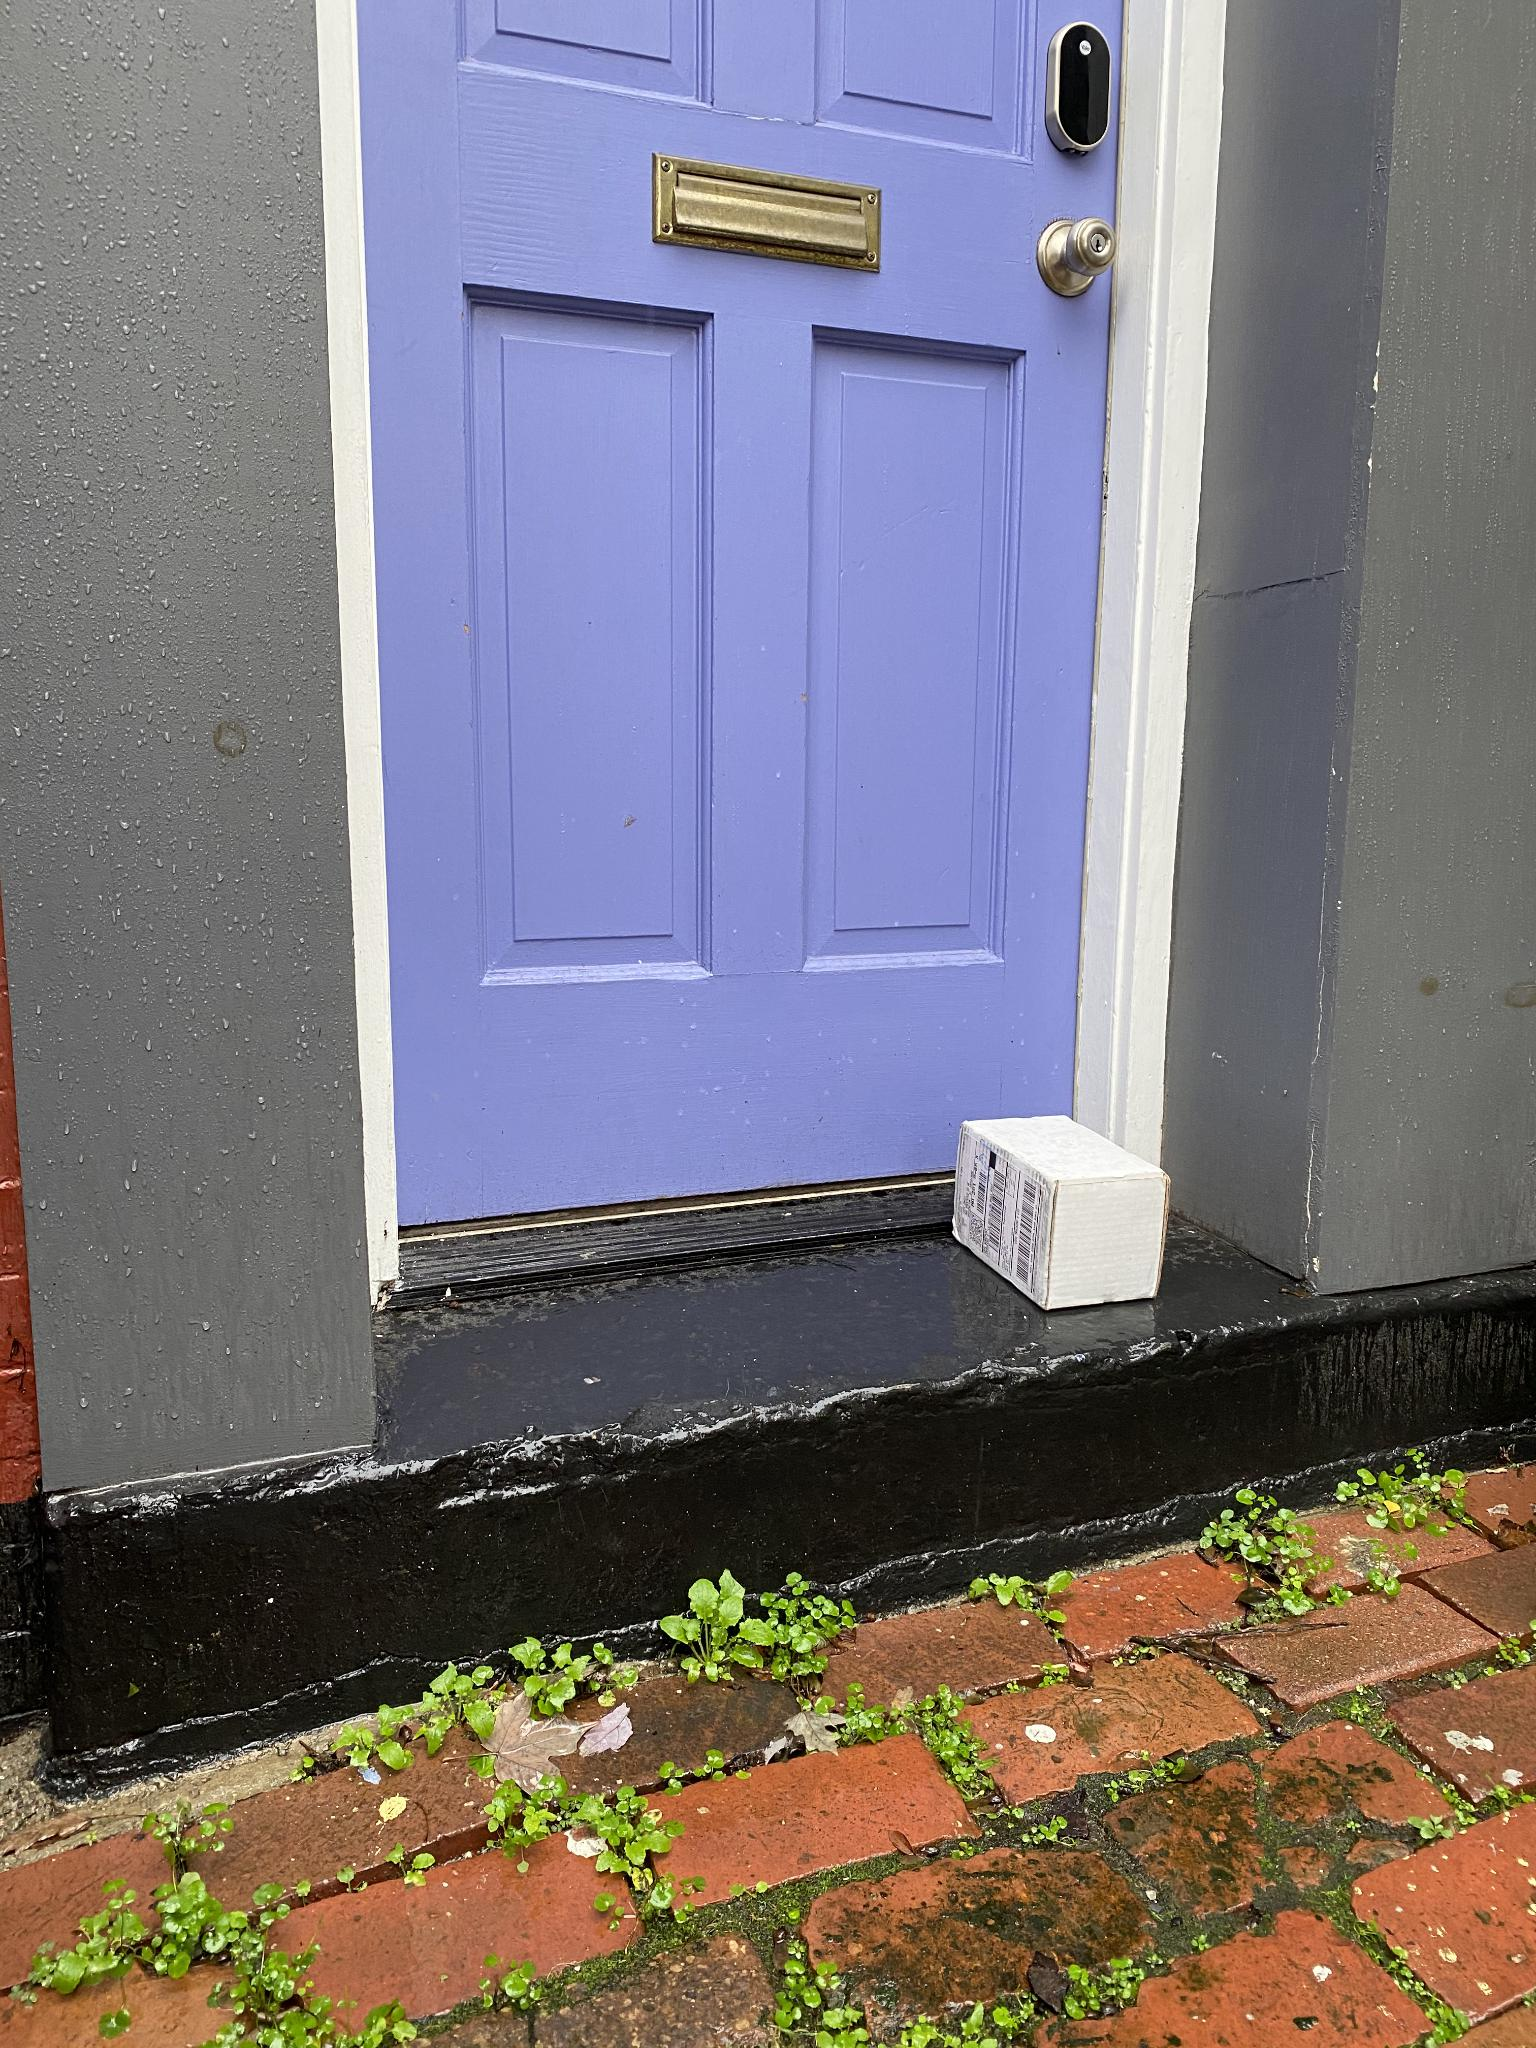package: (945, 1104, 1181, 1320)
